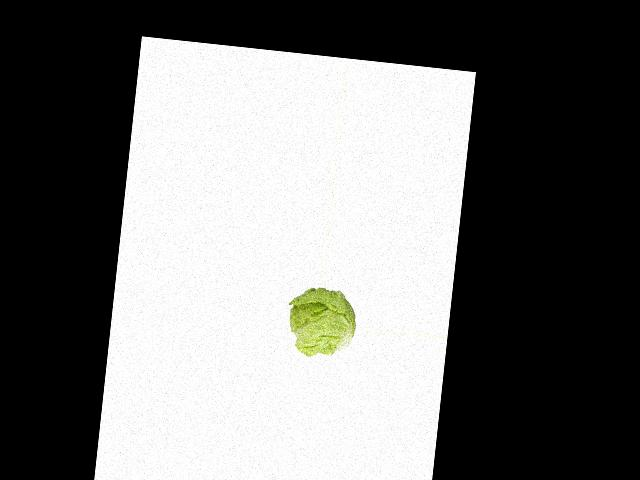lettuce: (285, 285, 361, 358)
